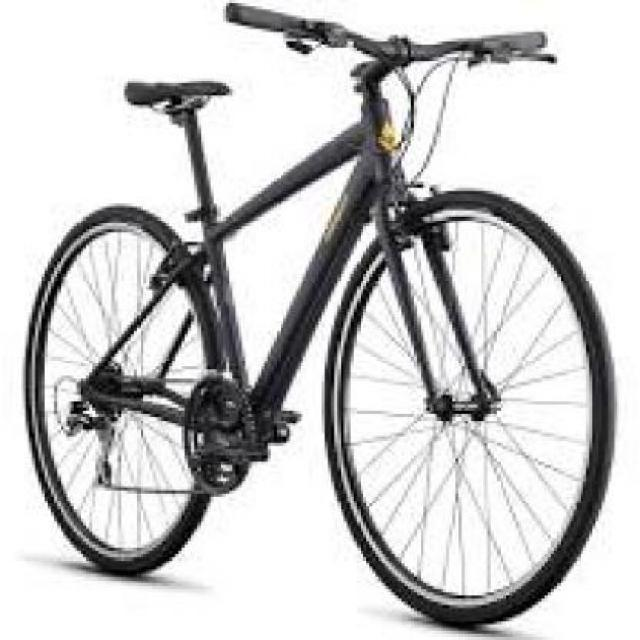bicycle: (1, 8, 640, 640)
